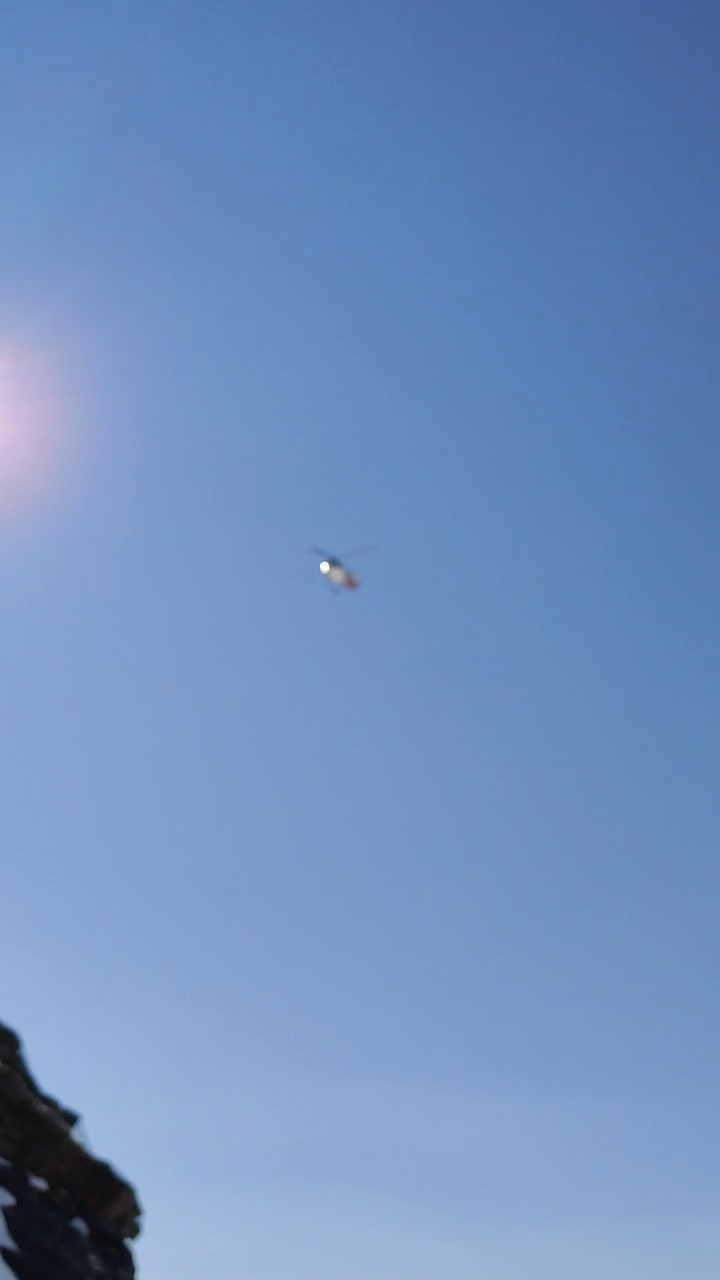heli: (308, 541, 384, 596)
